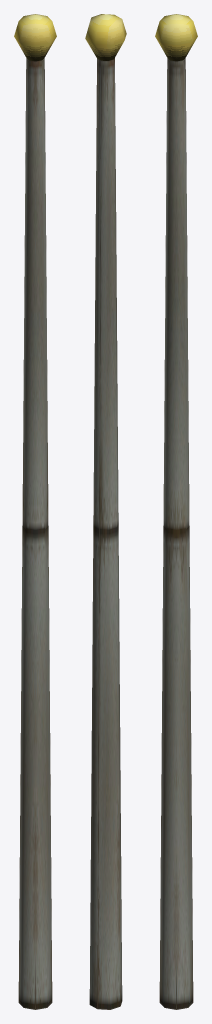
The model's file is FlagPole2.glb.
3 renders of one model, left to right at view 1: azimuth 90°, elevation 25°; view 2: azimuth 150°, elevation 25°; view 3: azimuth 270°, elevation 25°, orthographic.
Parts seen in each view (by area): view 1: FLAGPOLE2; view 2: FLAGPOLE2; view 3: FLAGPOLE2.
Boxes of the visible parts, x1,y1,x2,y2 form: FLAGPOLE2: (14, 14, 56, 1009); FLAGPOLE2: (85, 14, 126, 1009); FLAGPOLE2: (155, 14, 197, 1009).
Bounding box in the file's own units: 0.288 × 7.32 × 0.288.
2 materials, 2 textured.
